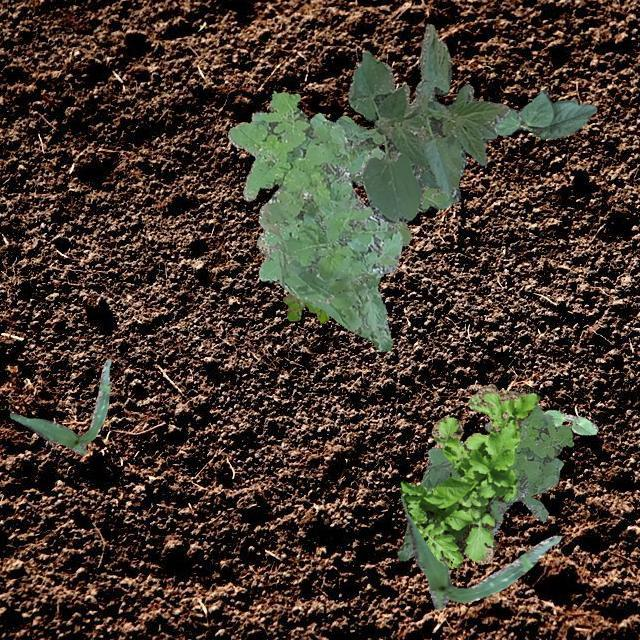crop: (346, 22, 508, 222), (400, 494, 560, 610), (9, 358, 110, 453), (494, 88, 596, 138), (542, 408, 596, 434), (419, 168, 438, 186)
weed: (226, 90, 402, 350), (397, 402, 572, 560), (398, 382, 538, 568), (334, 114, 450, 246), (282, 292, 328, 322)
